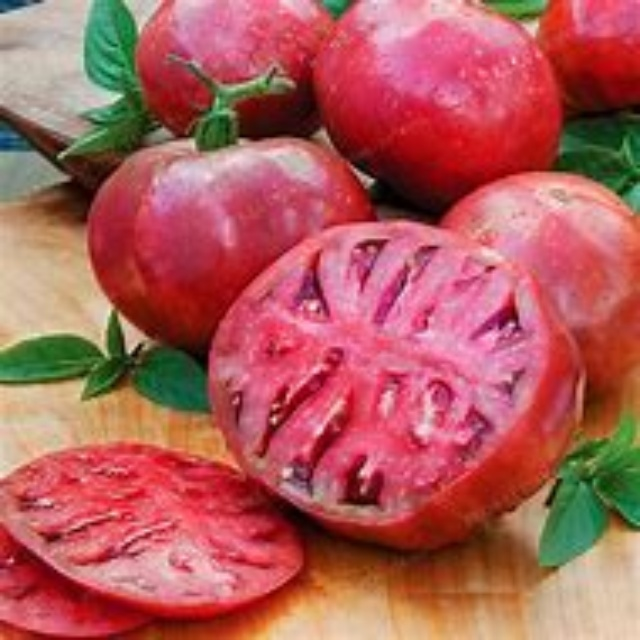tomato: (212, 218, 576, 567), (86, 128, 381, 357), (312, 5, 567, 198), (445, 166, 639, 393), (126, 0, 338, 146), (535, 2, 639, 118)
